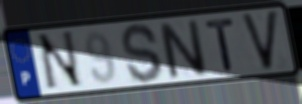9: (84, 29, 118, 86)
N: (155, 18, 211, 81), (35, 28, 86, 93)
S: (119, 21, 165, 86)
T: (203, 16, 237, 73)
V: (238, 8, 281, 73)
